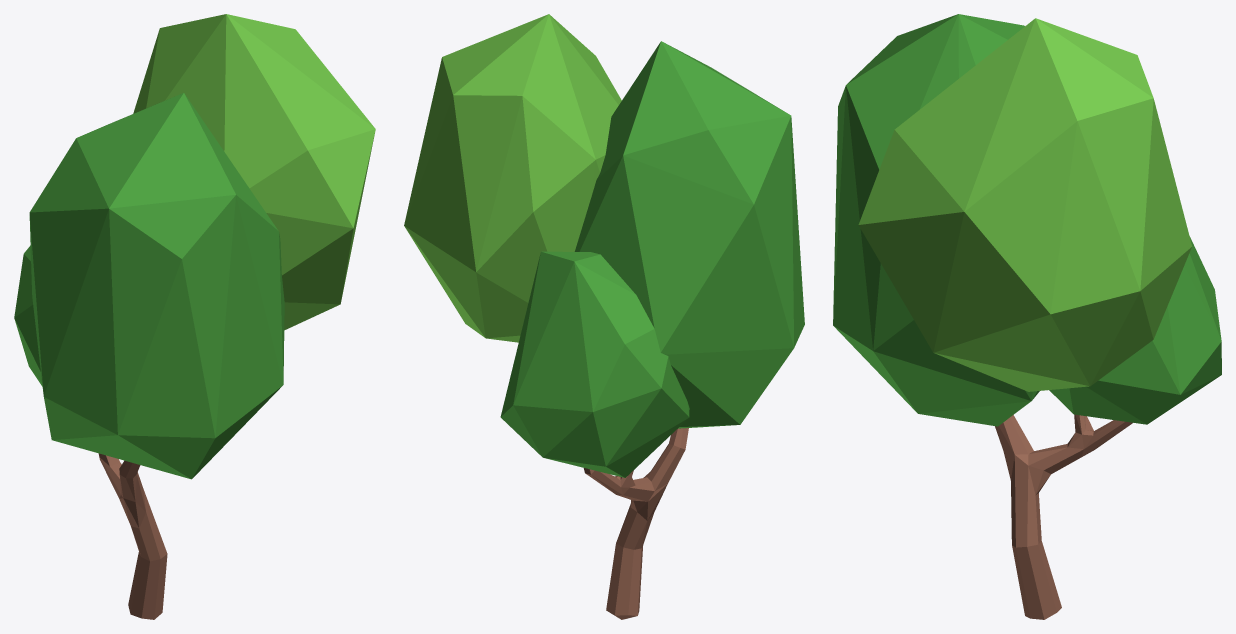
File: SmallTree.glb
3 views of the same model, side by side, from view 1: azimuth 30°, elevation 25°; view 2: azimuth 150°, elevation 25°; view 3: azimuth 270°, elevation 25° (orthographic). The views are drawn at different scales.
Visible parts, largest first — view 1: Cube.030; view 2: Cube.030; view 3: Cube.030.
Part boxes in pixels (x1,y1,x2,y2): Cube.030: [14, 14, 375, 619]; Cube.030: [404, 14, 804, 619]; Cube.030: [833, 14, 1221, 619].
Bounding box in the file's own units: 2.72 × 4.46 × 2.45.
